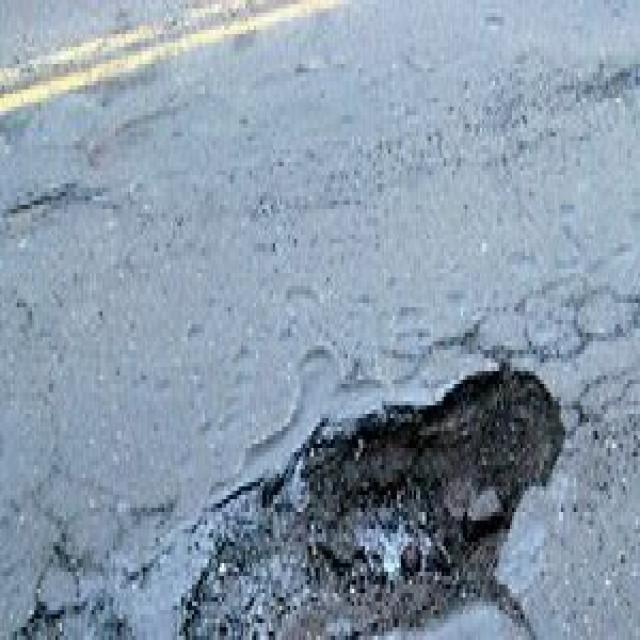Pothole: (196, 273, 640, 636)
